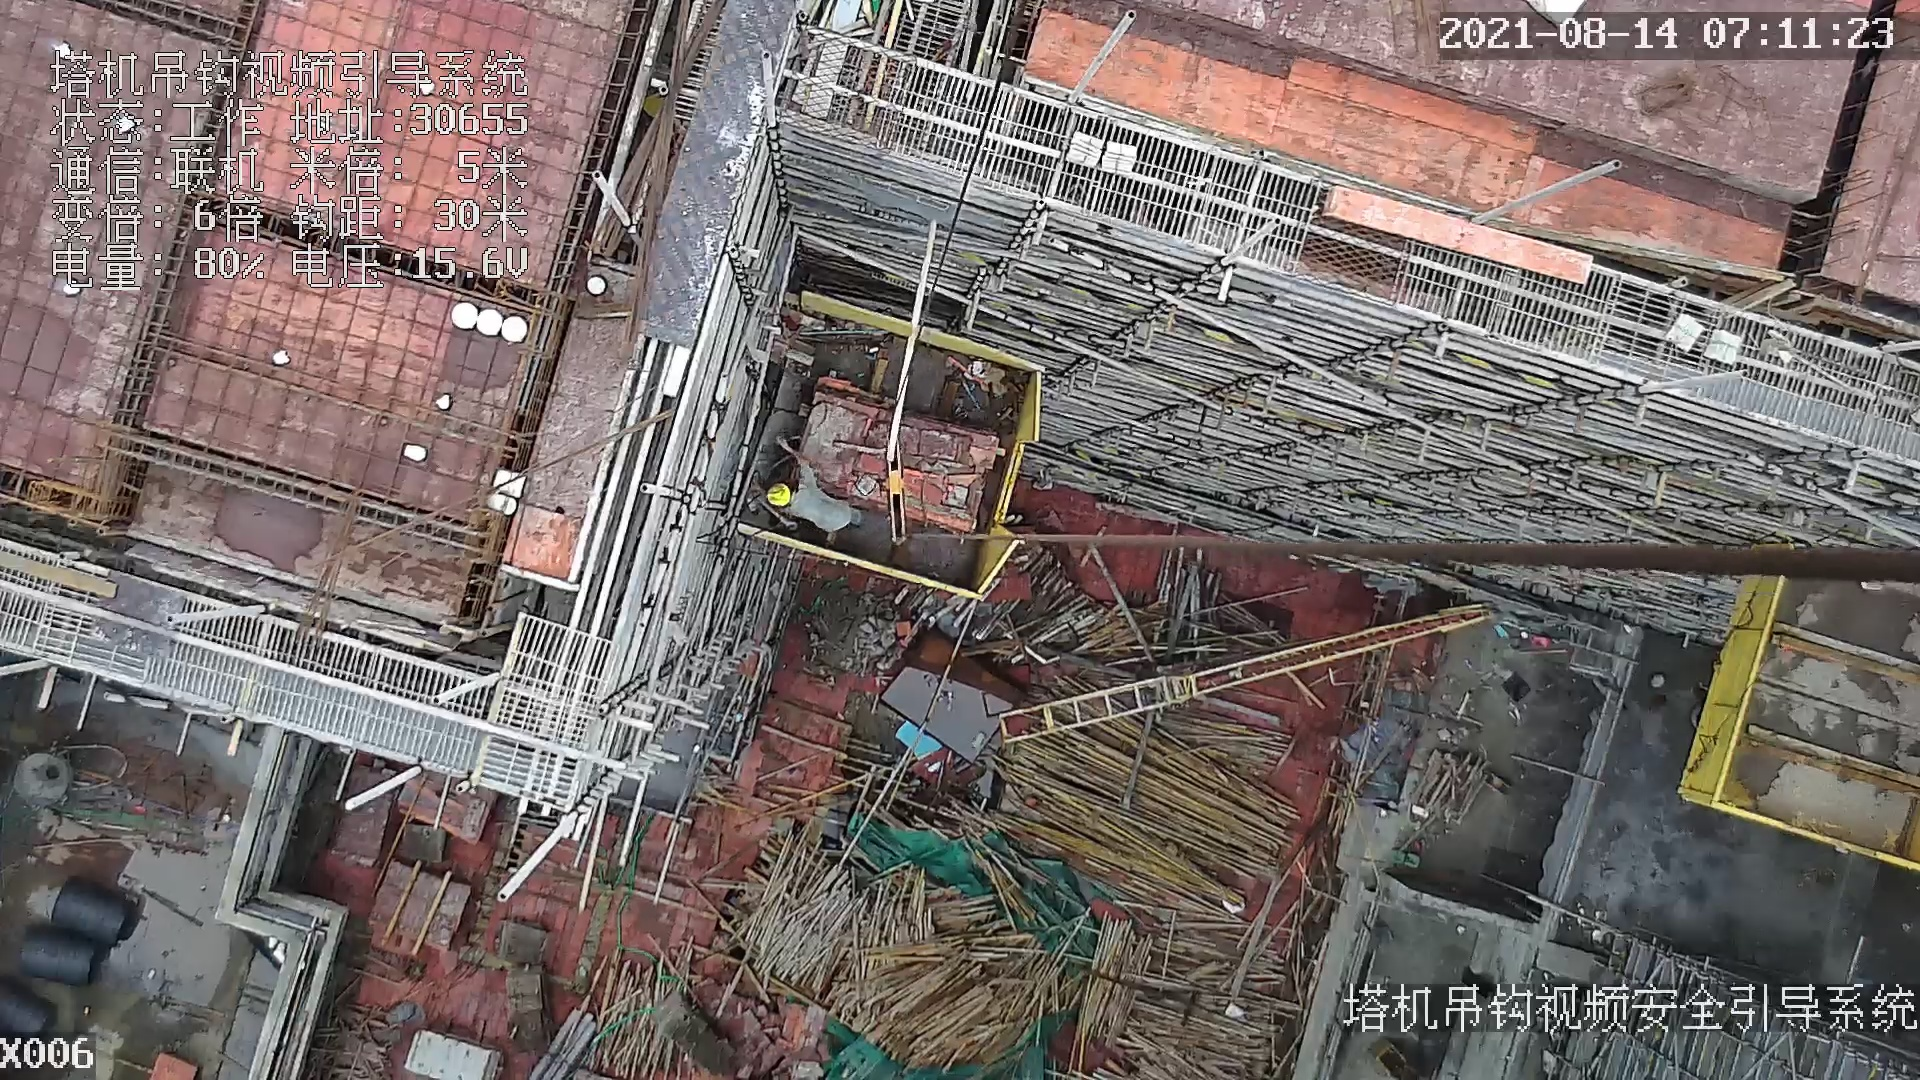helmet: (765, 480, 793, 507)
hook: (878, 441, 912, 546)
person: (762, 439, 868, 536)
